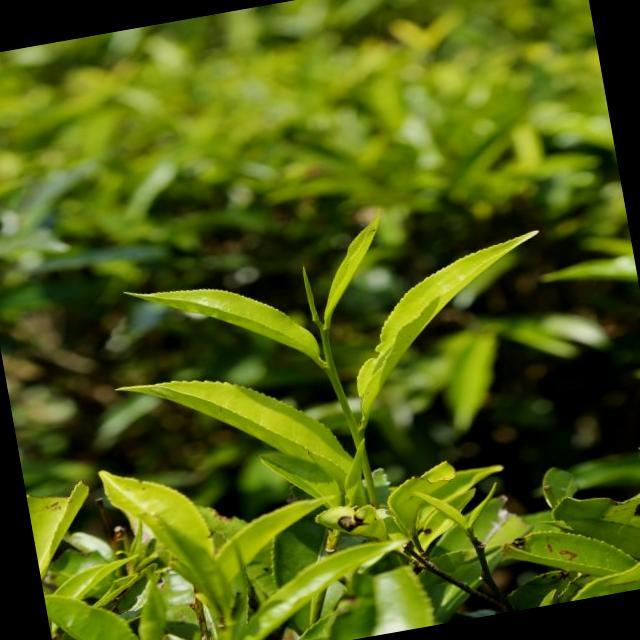Stem: (324, 363, 334, 372)
